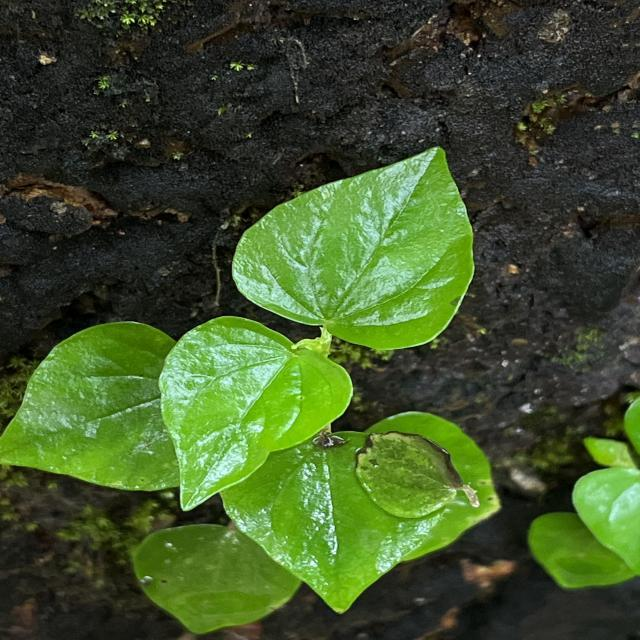Peperomia pellucida: (230, 144, 478, 352), (156, 314, 355, 513)
